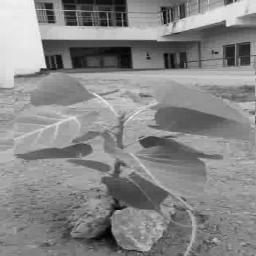LEAVS: (14, 68, 255, 211)
